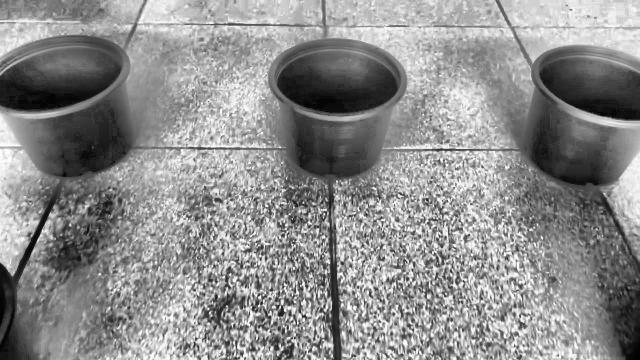pot: (268, 38, 407, 178), (0, 36, 135, 178), (522, 45, 640, 187)
